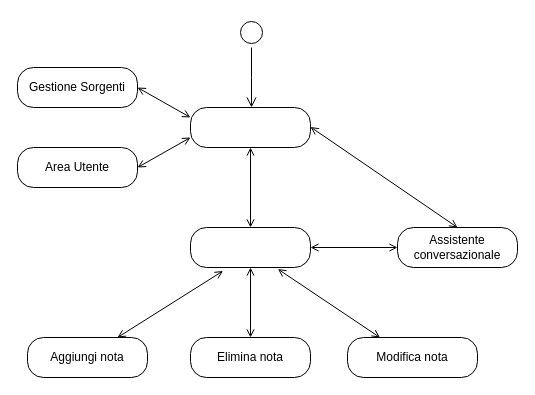
This 535x395 diagram has some shape labels left out. Here are the shapes that lost their labels. From the top down, the centre of each, then its label:
At point 250,127: "Bacheca".
At point 250,247: "Notizia".
